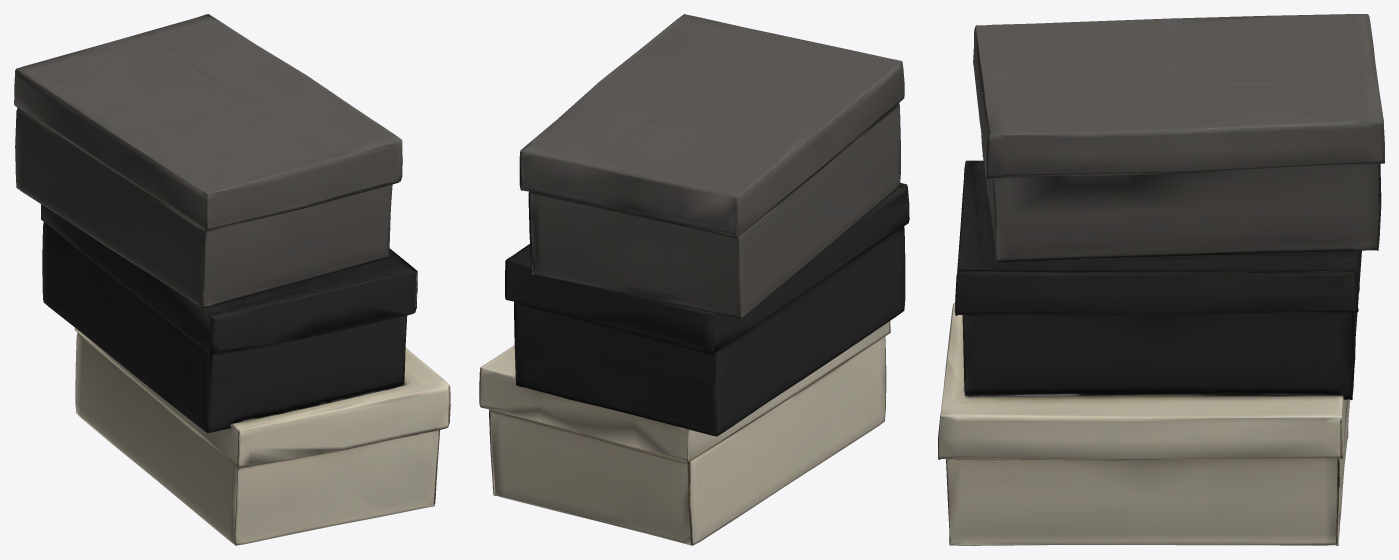
File: shoeboxes_v01.optimized.glb
3 renders of one model, left to right at view 1: azimuth 30°, elevation 25°; view 2: azimuth 150°, elevation 25°; view 3: azimuth 270°, elevation 25°, orthographic. The views are drawn at different scales.
Visible parts, largest first — view 1: tripo_node_b768273f-155e-461e-9075-b4e27392d8c7; view 2: tripo_node_b768273f-155e-461e-9075-b4e27392d8c7; view 3: tripo_node_b768273f-155e-461e-9075-b4e27392d8c7.
Boxes of the visible parts, x1=… form: tripo_node_b768273f-155e-461e-9075-b4e27392d8c7: x1=14, y1=14, x2=450, y2=545; tripo_node_b768273f-155e-461e-9075-b4e27392d8c7: x1=479, y1=14, x2=909, y2=545; tripo_node_b768273f-155e-461e-9075-b4e27392d8c7: x1=938, y1=14, x2=1384, y2=545.
Size of the model in its own units: 0.7519 by 0.998 by 0.998.
1 material, 1 textured.
